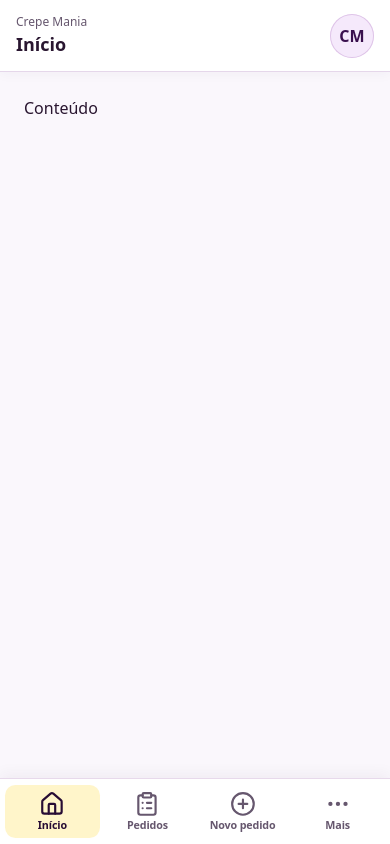
Scenario: AdminShell mobile › abre Mais para atendente sem redirecionar ao perfil
Click the button "Mais". click: (338, 811)
box: [290,785,385,838]
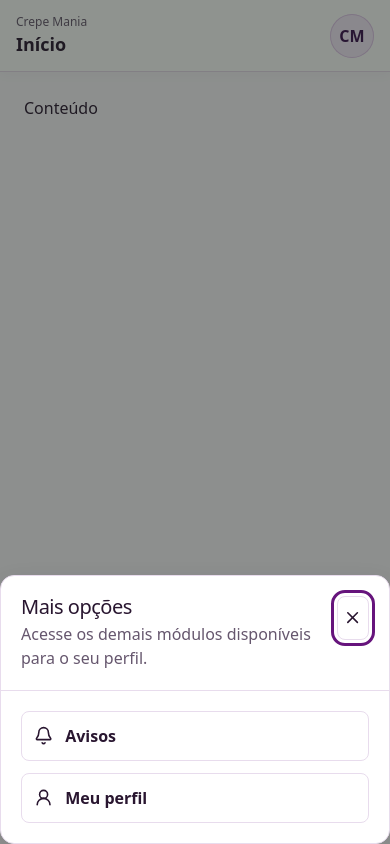
Expected: the heading "Mais opções" is shown, [21,593,132,620]
Expected: the link "Avisos" is shown, [21,711,369,761]
Expected: the link "Meu perfil" is shown, [21,773,369,823]
